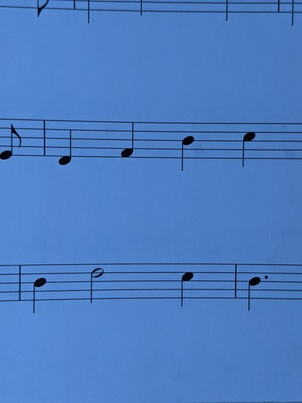note: (28, 258, 50, 321), (176, 118, 198, 176), (237, 118, 259, 172), (175, 258, 197, 311), (54, 118, 75, 172), (243, 261, 262, 320), (117, 115, 138, 168)
